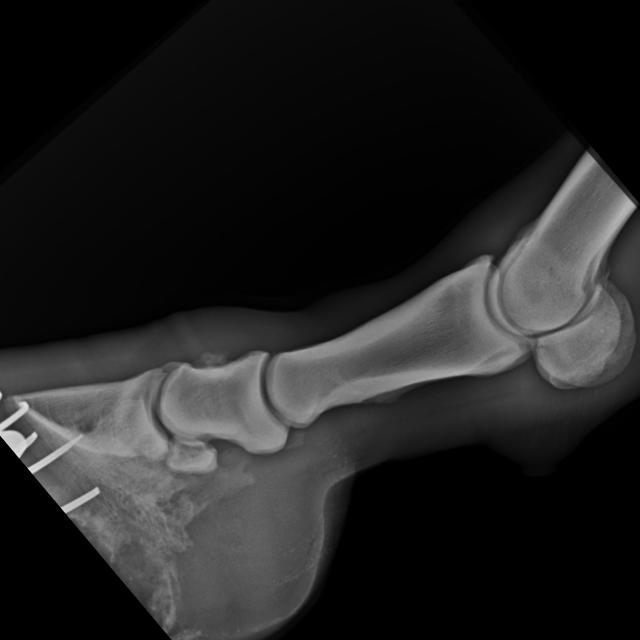joint-ht8A: (372, 138, 640, 485)
